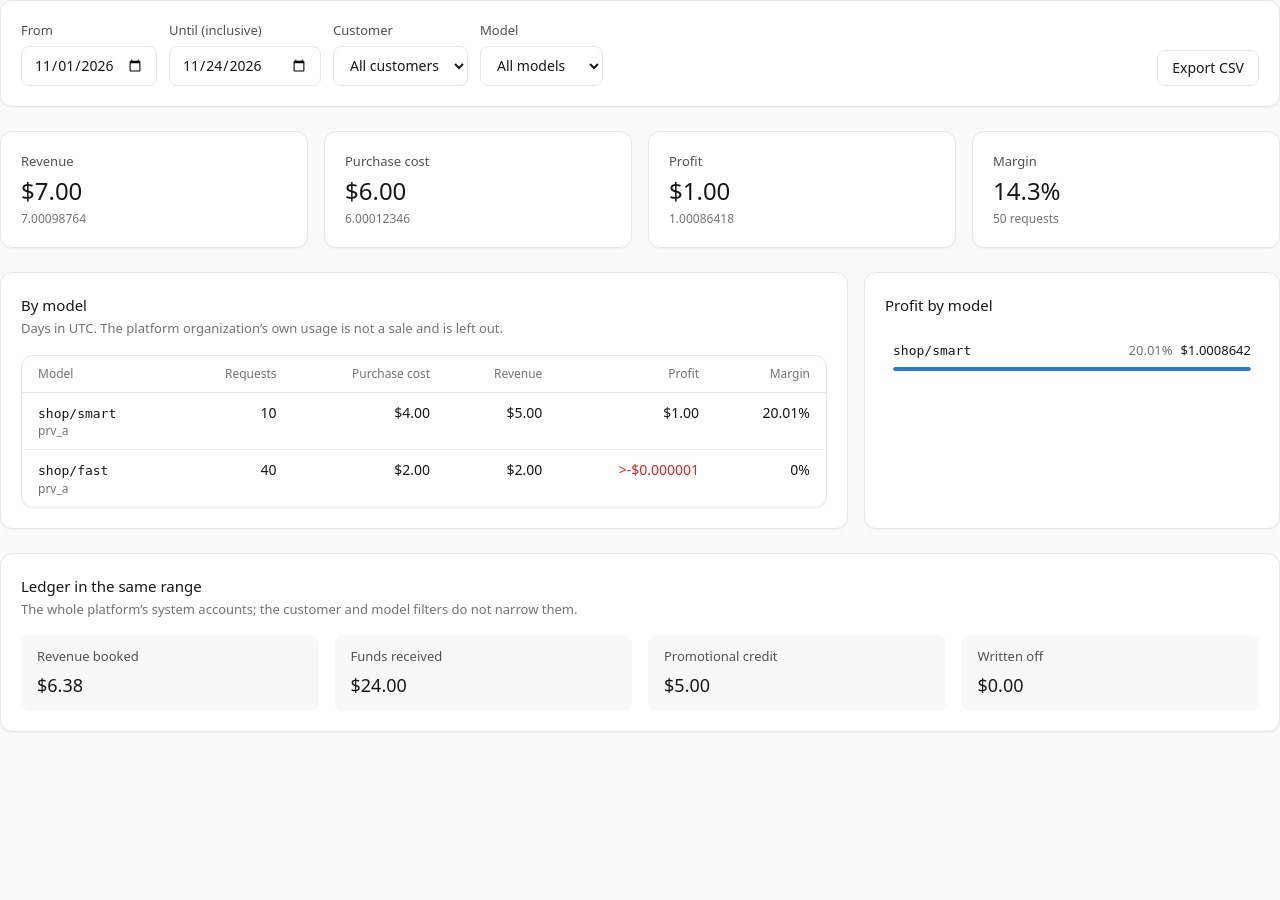
billing profit report (card 25.2) › refuses a range that ends before it starts
Check: the element with test id "profit-totals" is shown, box [0,131,1279,248]
Type "2026-12-01" into the date field labelled "From".
click(89, 66); type("2026-12-01")  # box [21,46,157,86]
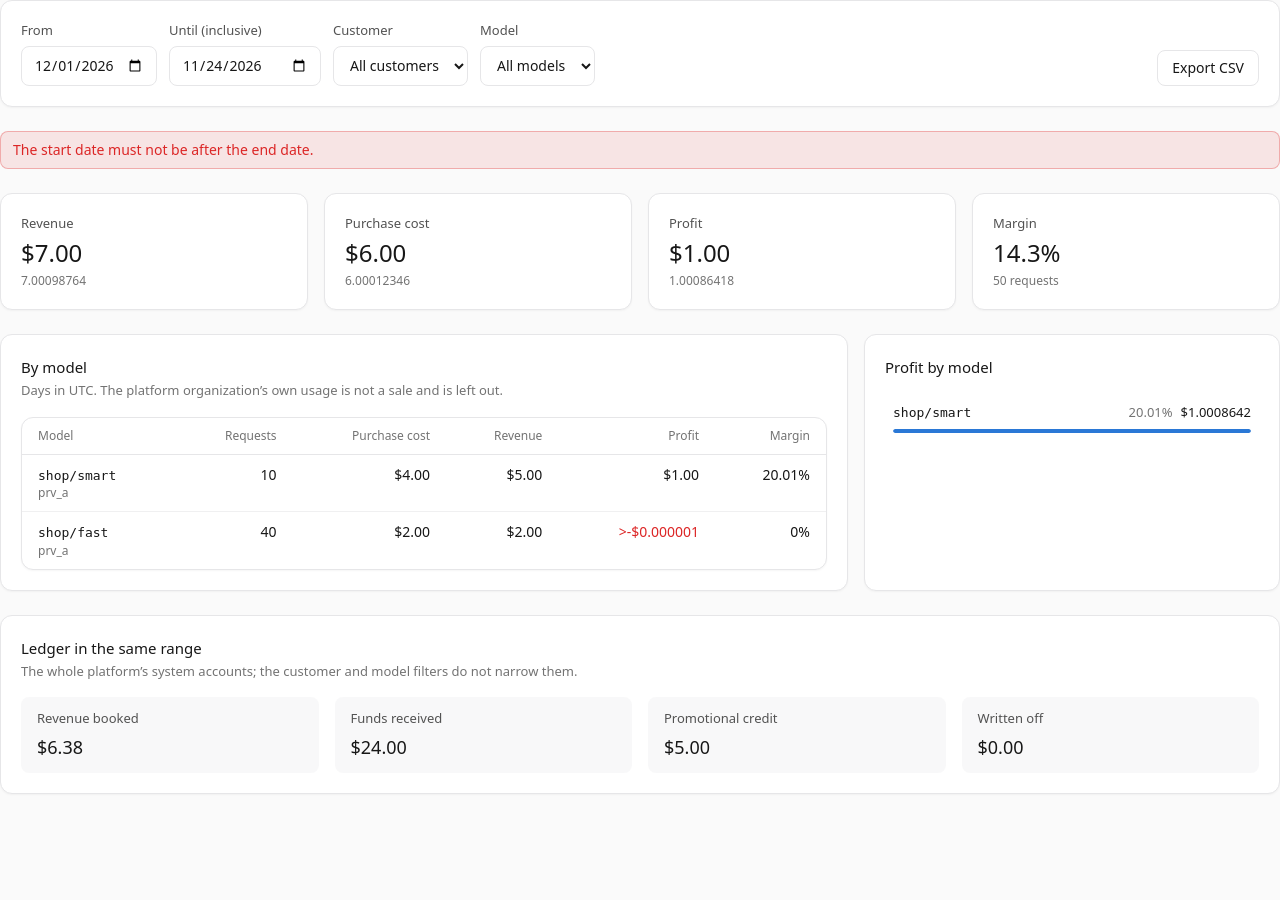
Check: the text "The start date must not be after the end date." is shown, box [0,131,1279,169]
